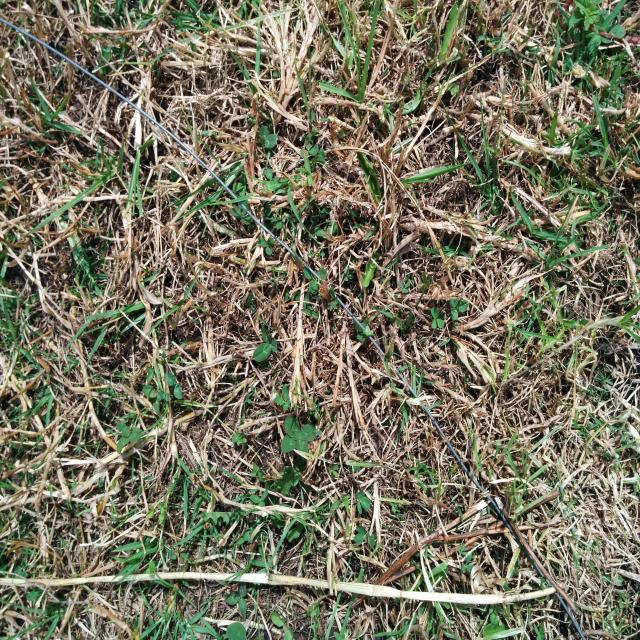Four Leaf Clover: (281, 416, 316, 453)
